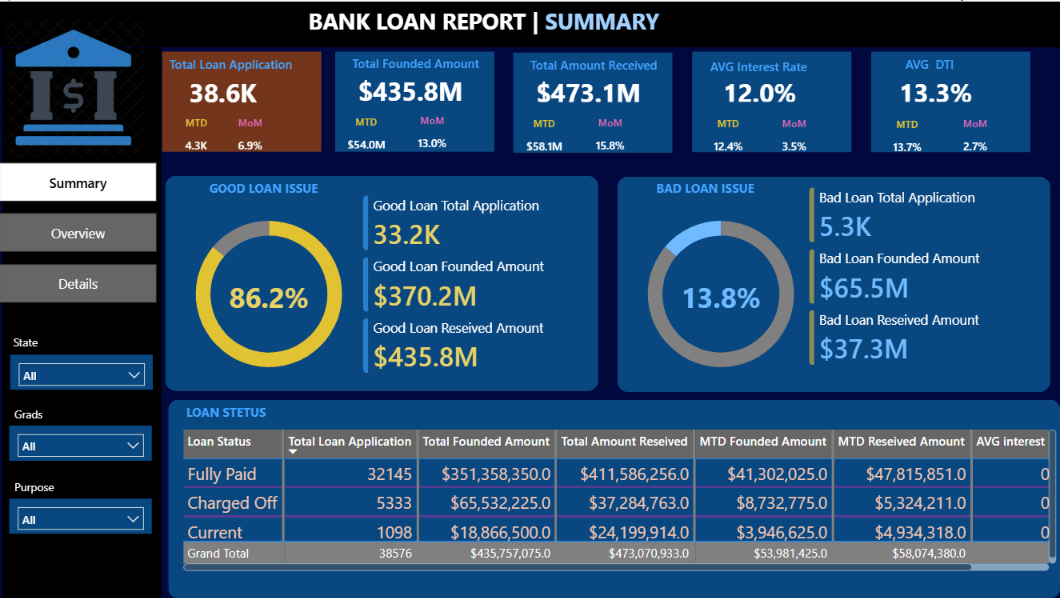

This screenshot's page, from the dashboard's own definition file:
{"tool":"powerbi","page":{"name":"Summary","canvas":[1280,720],"ordinal":0},"visuals":[{"type":"shape","box":[0,0,1279.7,55],"z":0},{"type":"shape","box":[4,56,192,664],"z":1000},{"type":"textbox","box":[367.8,0,436.4,45.3],"z":2000},{"type":"shape","box":[196.4,60.5,192,121],"z":3000},{"type":"cardVisual","fields":{"Data":["financial_loan.Total Loan Application"]},"box":[200,76,168,64],"z":4000},{"type":"textbox","box":[200.3,60.3,184,32],"z":5000},{"type":"cardVisual","title":"MTD","fields":{"Data":["financial_loan.MTD  Loan Application"]},"box":[190.7,137.9,94.7,58.7],"z":6000},{"type":"cardVisual","title":"MoM","fields":{"Data":["financial_loan.MoM loan application"]},"box":[256.3,137.6,94.7,58.7],"z":7000},{"type":"shape","box":[404.8,59.9,192,121],"z":8000},{"type":"cardVisual","fields":{"Data":["financial_loan.Total Founded Amount"]},"box":[404,76,193.3,61.3],"z":9000},{"type":"textbox","box":[420.5,59.5,184,32],"z":10000},{"type":"cardVisual","title":"MTD","fields":{"Data":["financial_loan.MTD  Founded Amount"]},"box":[391.2,136.8,104,58.7],"z":11000},{"type":"cardVisual","title":"MoM","fields":{"Data":["financial_loan.MoM Founded amount"]},"box":[475.2,135.5,94.7,58.7],"z":12000},{"type":"shape","box":[619.6,61.3,192,121],"z":13000},{"type":"cardVisual","fields":{"Data":["financial_loan.Total Amount Reseived"]},"box":[618.7,77.3,193.3,61.3],"z":14000},{"type":"textbox","box":[635.3,60.9,184,32],"z":15000},{"type":"cardVisual","title":"MTD","fields":{"Data":["financial_loan.MTD  Reseived  Amount"]},"box":[606,138.3,104,58.7],"z":16000},{"type":"cardVisual","title":"MoM","fields":{"Data":["financial_loan.MoM Reseived Amount"]},"box":[690,136.9,94.7,58.7],"z":17000},{"type":"shape","box":[836.5,60.3,192,121.3],"z":18000},{"type":"cardVisual","fields":{"Data":["financial_loan.AVG interest rate"]},"box":[844,77.3,184,61.3],"z":19000},{"type":"textbox","box":[853.3,62.7,184,32],"z":20000},{"type":"cardVisual","title":"MTD","fields":{"Data":["financial_loan.MTD  avg interest rate"]},"box":[828,138.7,104,58.7],"z":21000},{"type":"cardVisual","title":"MoM","fields":{"Data":["financial_loan.MoM avg interest rate"]},"box":[912,138.7,94.7,58.7],"z":22000},{"type":"shape","box":[1052,60.8,192,121.3],"z":23000},{"type":"shape","box":[200,209.3,522.7,260],"z":24000},{"type":"cardVisual","fields":{"Data":["financial_loan.AVG  DTI"]},"box":[1057.3,77.3,180,61.3],"z":25000},{"type":"textbox","box":[1076,60,184,32],"z":26000},{"type":"donutChart","fields":{"Category":["financial_loan.loan_status (groups)"],"Y":["financial_loan.Total Loan Application"]},"box":[200,237.3,250.7,230.7],"z":27000},{"type":"cardVisual","title":"MTD","fields":{"Data":["financial_loan.MTD  avg dti"]},"box":[1044,140,104,58.7],"z":28000},{"type":"cardVisual","title":"MoM","fields":{"Data":["financial_loan.MoM avg dti"]},"box":[1130.7,138.7,94.7,58.7],"z":29000},{"type":"shape","box":[745.3,210.7,522.7,260],"z":30000},{"type":"cardVisual","fields":{"Data":["financial_loan.Good Loan %"]},"box":[248,322.7,156,65.3],"z":31000},{"type":"cardVisual","fields":{"Data":["financial_loan.Good Loan Application","financial_loan.Good Loan Founded Amount","financial_loan.Good Loan resived Amount"]},"box":[422.7,217.3,300,250.7],"z":32000},{"type":"textbox","box":[248,209.3,184,32],"z":33000},{"type":"donutChart","fields":{"Category":["financial_loan.loan_status (groups)"],"Y":["financial_loan.Total Loan Application"]},"box":[745.3,237.3,250.7,230.7],"z":34000},{"type":"textbox","box":[788,209.3,184,32],"z":35000},{"type":"cardVisual","fields":{"Data":["financial_loan.Bad Loan %"]},"box":[793.3,322.7,156,65.3],"z":36000},{"type":"cardVisual","fields":{"Data":["financial_loan.Bad  Loan Total  Application","financial_loan.Bad Loan Founded Amount","financial_loan.Bad Loan Reseived Amount"]},"box":[960,208,300,250.7],"z":37000},{"type":"shape","box":[204,480,1076,240],"z":38000},{"type":"tableEx","fields":{"Values":["financial_loan.loan_status","financial_loan.Total Loan Application","financial_loan.Total Founded Amount","financial_loan.Total Amount Reseived","financial_loan.MTD  Founded Amount","financial_loan.MTD  Reseived  Amount","financial_loan.AVG interest rate","financial_loan.AVG  DTI"]},"box":[216,512,1064,180],"z":39000},{"type":"textbox","box":[221.3,480,184,32],"z":40000},{"type":"slicer","fields":{"Values":["financial_loan.address_state"]},"box":[13.3,425.3,172,42.7],"z":41000},{"type":"textbox","box":[12,397.3,65.3,28],"z":42000},{"type":"slicer","fields":{"Values":["financial_loan.grade"]},"box":[12,512,172,42.7],"z":43000},{"type":"textbox","box":[13.3,484,65.3,28],"z":44000},{"type":"slicer","fields":{"Values":["financial_loan.purpose"]},"box":[12,600,172,42.7],"z":45000},{"type":"textbox","box":[13.3,572,85.3,28],"z":46000},{"type":"image","box":[4,6.7,172,192],"z":46001},{"type":"pageNavigator","box":[0,194.7,190.7,169.3],"z":46002}]}

Visuals, with their boxes in screenshot pixels (x1, y1, x2, y2), scaled from the page's 1280x720 canvas onto the 1060x598 screenshot:
shape: 0, 0, 1059, 46
shape: 3, 47, 162, 597
textbox: 305, 0, 666, 38
shape: 163, 50, 322, 151
cardVisual - financial_loan.Total Loan Application: 166, 63, 305, 116
textbox: 166, 50, 318, 77
"MTD" cardVisual: 158, 115, 236, 163
"MoM" cardVisual: 212, 114, 291, 163
shape: 335, 50, 494, 150
cardVisual - financial_loan.Total Founded Amount: 335, 63, 495, 114
textbox: 348, 49, 501, 76
"MTD" cardVisual: 324, 114, 410, 162
"MoM" cardVisual: 394, 113, 472, 161
shape: 513, 51, 672, 151
cardVisual - financial_loan.Total Amount Reseived: 512, 64, 672, 115
textbox: 526, 51, 678, 77
"MTD" cardVisual: 502, 115, 588, 164
"MoM" cardVisual: 571, 114, 650, 162
shape: 693, 50, 852, 151
cardVisual - financial_loan.AVG interest rate: 699, 64, 851, 115
textbox: 707, 52, 859, 79
"MTD" cardVisual: 686, 115, 772, 164
"MoM" cardVisual: 755, 115, 834, 164
shape: 871, 50, 1030, 151
shape: 166, 174, 598, 390
cardVisual - financial_loan.AVG  DTI: 876, 64, 1025, 115
textbox: 891, 50, 1043, 76
donutChart - financial_loan.loan_status (groups) x financial_loan.Total Loan Application: 166, 197, 373, 389
"MTD" cardVisual: 865, 116, 951, 165
"MoM" cardVisual: 936, 115, 1015, 164
shape: 617, 175, 1050, 391
cardVisual - financial_loan.Good Loan %: 205, 268, 335, 322
cardVisual - financial_loan.Good Loan Application x financial_loan.Good Loan Founded Amount: 350, 180, 598, 389
textbox: 205, 174, 358, 200
donutChart - financial_loan.loan_status (groups) x financial_loan.Total Loan Application: 617, 197, 825, 389
textbox: 653, 174, 805, 200
cardVisual - financial_loan.Bad Loan %: 657, 268, 786, 322
cardVisual - financial_loan.Bad  Loan Total  Application x financial_loan.Bad Loan Founded Amount: 795, 173, 1043, 381
shape: 169, 399, 1059, 597
tableEx - financial_loan.loan_status x financial_loan.Total Loan Application: 179, 425, 1059, 575
textbox: 183, 399, 336, 425
slicer - financial_loan.address_state: 11, 353, 153, 389
textbox: 10, 330, 64, 353
slicer - financial_loan.grade: 10, 425, 152, 461
textbox: 11, 402, 65, 425
slicer - financial_loan.purpose: 10, 498, 152, 534
textbox: 11, 475, 82, 498
image: 3, 6, 146, 165
pageNavigator: 0, 162, 158, 302
